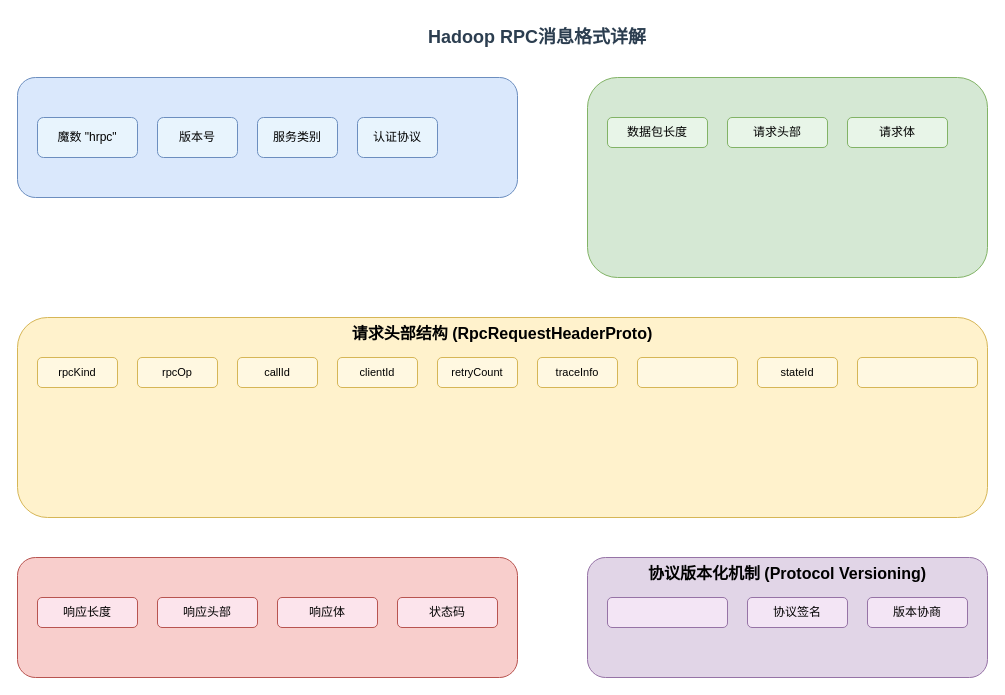
Some shapes in this 1005 by 695 pixel diagram are drawn without their labels. The box of each missing label's shape, as (x1, y1, x2, y2) in pixels:
callerContext: (636, 356, 738, 388)
routerFederatedState: (856, 356, 978, 388)
RPC数据包格式 (RPC Packet Format): (586, 76, 988, 278)
VersionedProtocol: (606, 596, 728, 628)
响应格式 (Response Format): (16, 556, 518, 678)
连接头部格式 (Connection Header): (16, 76, 518, 198)
